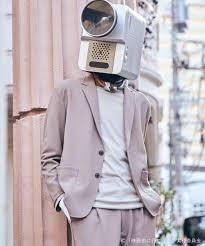no more kid: (79, 0, 147, 86)
